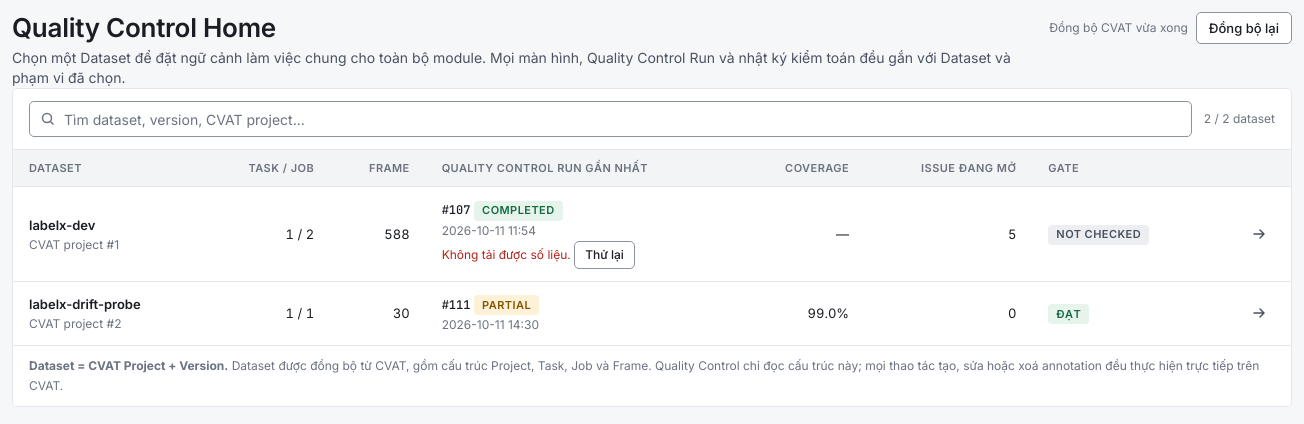
Scenario: Overview: Quality Control Home và Quality Summary dùng dữ liệu thật › Quality Control Home › lỗi số liệu của một dòng có Thử lại riêng cho dòng đó
Expected: the text "Không tải được số liệu." is shown, [442,246,571,262]
Click the button "Thử lại": (605, 254) [574,240,635,268]
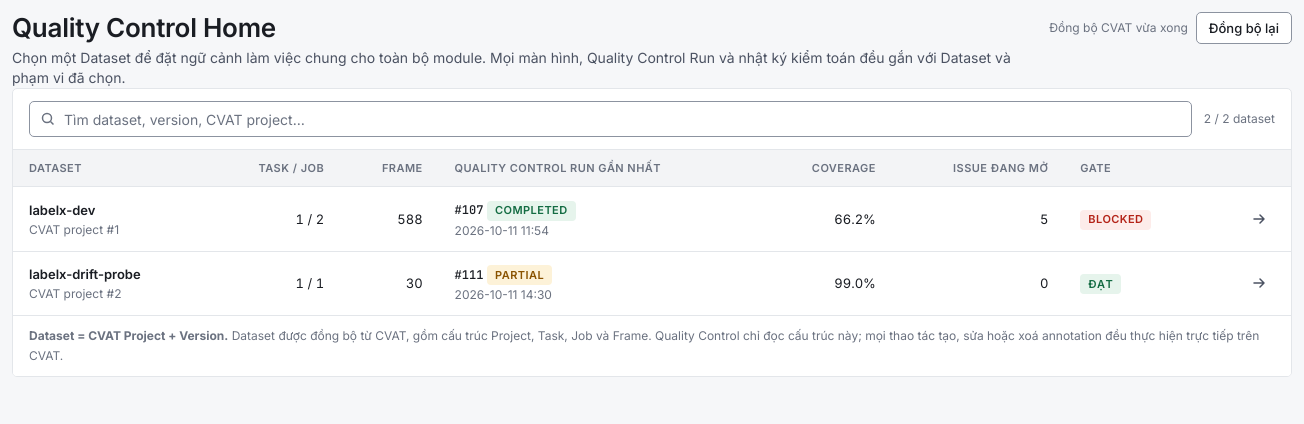
Result: the text "66.2%" is shown at [762,186,892,251]
Result: the text "Không tải được số liệu." is gone
